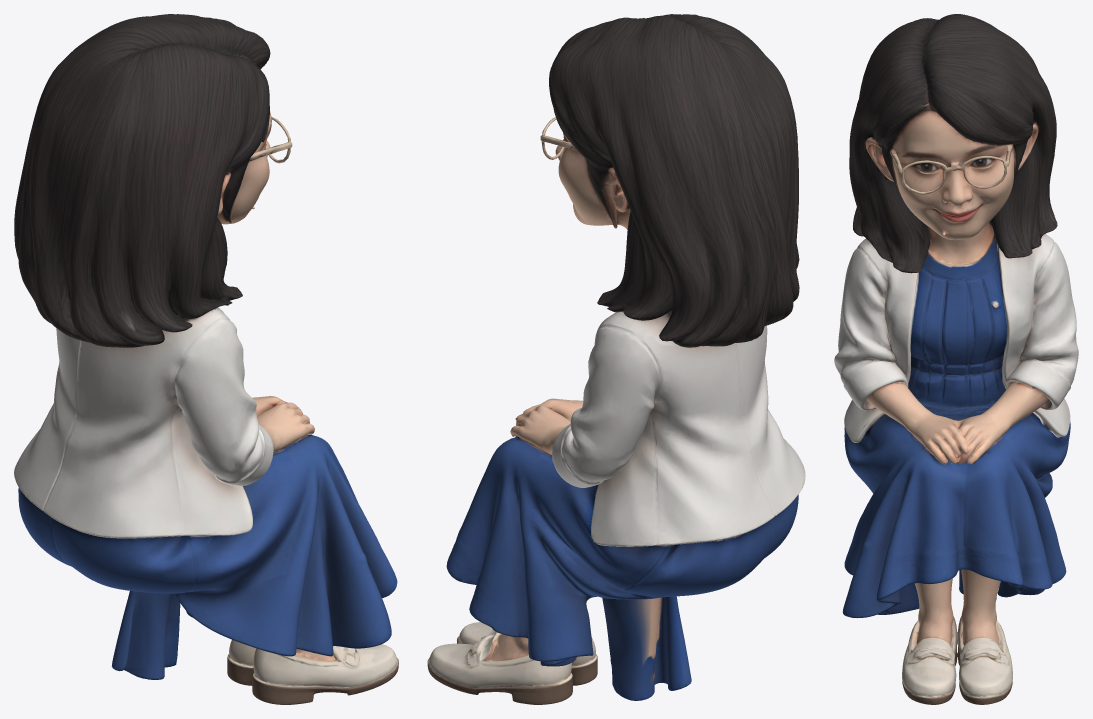
Rendered from 逯百慧.glb.
3 renders of one model, left to right at view 1: azimuth 30°, elevation 25°; view 2: azimuth 150°, elevation 25°; view 3: azimuth 270°, elevation 25°, orthographic. The views are drawn at different scales.
Parts seen in each view (by area): view 1: tripo_node_fb53a3ba-ae00-4725-975d-083e83edaf94; view 2: tripo_node_fb53a3ba-ae00-4725-975d-083e83edaf94; view 3: tripo_node_fb53a3ba-ae00-4725-975d-083e83edaf94.
Part boxes in pixels (box(x1,y1,x2,y2)): tripo_node_fb53a3ba-ae00-4725-975d-083e83edaf94: box(14, 14, 398, 704); tripo_node_fb53a3ba-ae00-4725-975d-083e83edaf94: box(427, 14, 805, 704); tripo_node_fb53a3ba-ae00-4725-975d-083e83edaf94: box(834, 14, 1078, 704).
Size of the model in its own units: 0.5105 by 0.9791 by 0.3668.
Materials: 1 (1 with a texture image).
